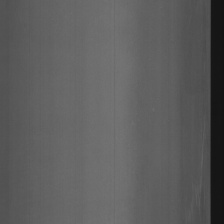silk_spot: (197, 89, 208, 172), (189, 175, 205, 221)
